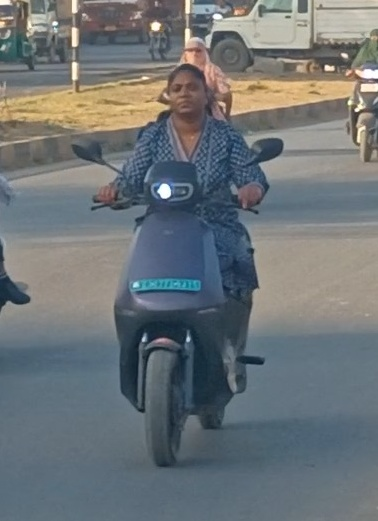BikeWithRider: (64, 60, 290, 472), (334, 22, 378, 167), (139, 0, 176, 63)
NoHelmet: (158, 61, 214, 123), (364, 27, 378, 50)
